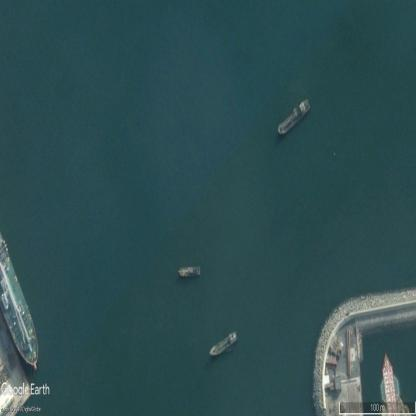ship: (0, 232, 38, 370), (278, 98, 311, 135), (211, 332, 238, 356), (178, 266, 201, 277)
